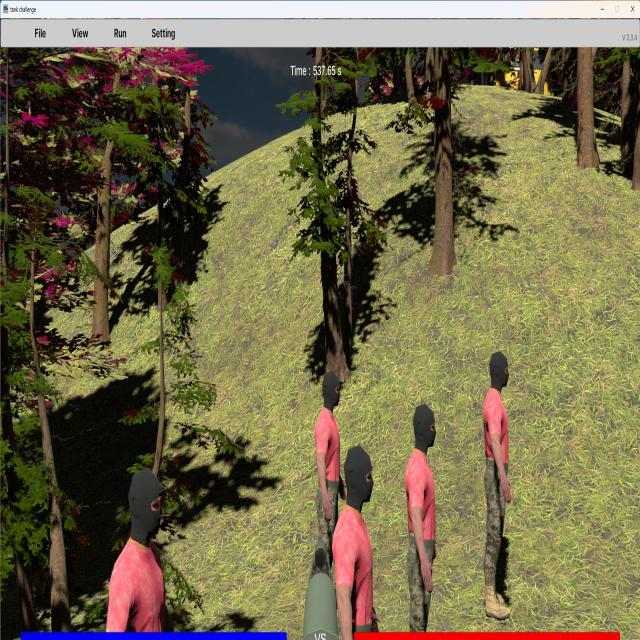Human: (480, 351, 515, 626), (332, 442, 381, 638), (402, 401, 442, 636), (313, 370, 347, 610)
